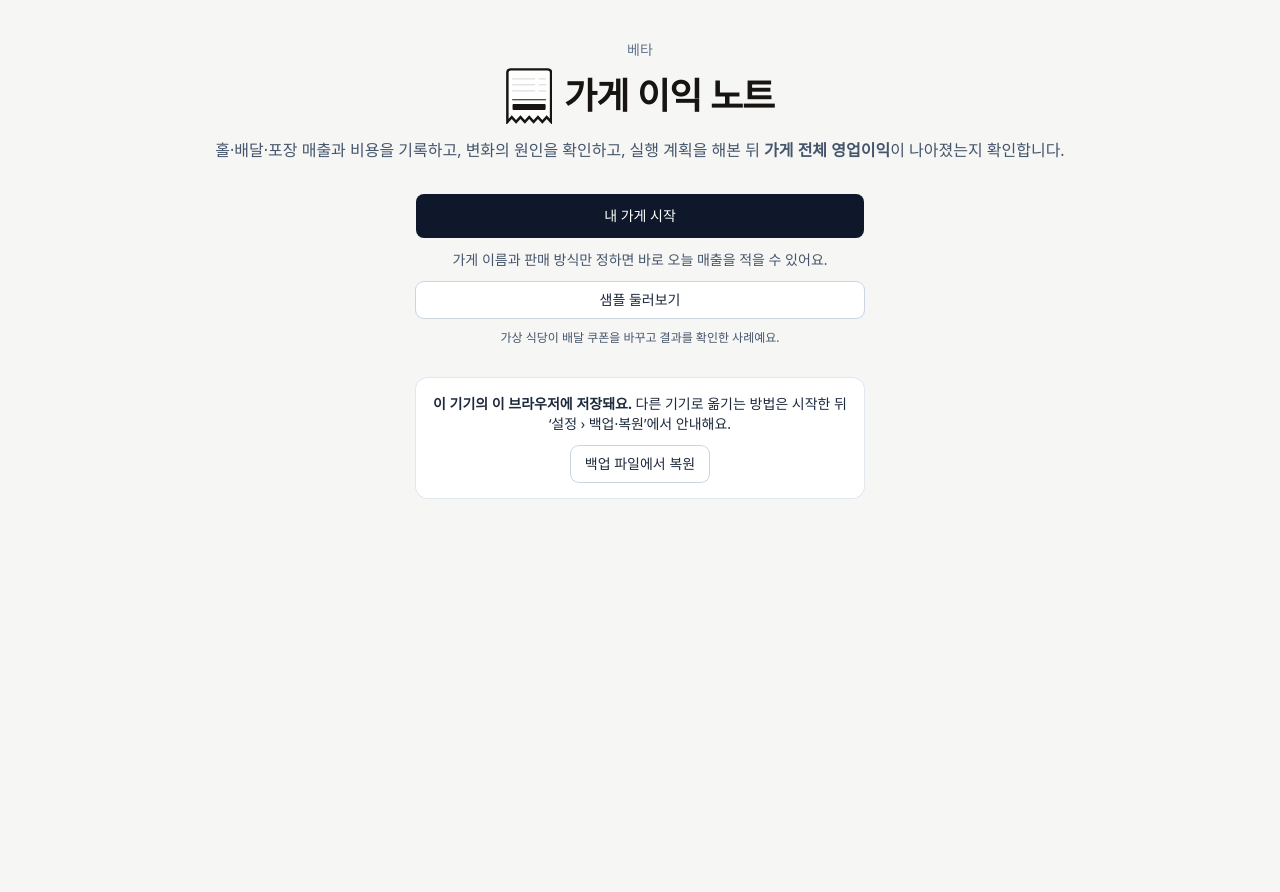
앱 스모크 테스트 › 샘플로 시작해 모든 화면을 렌더링하고, 새로고침 후에도 유지된다
The width and height of the screenshot is (1280, 892).
Later steps or results of the test are not shown.
Expected: the button "내 가게 시작" is shown, [416,194,864,238]
Click the button "샘플 둘러보기": (640, 300) [416,282,864,318]
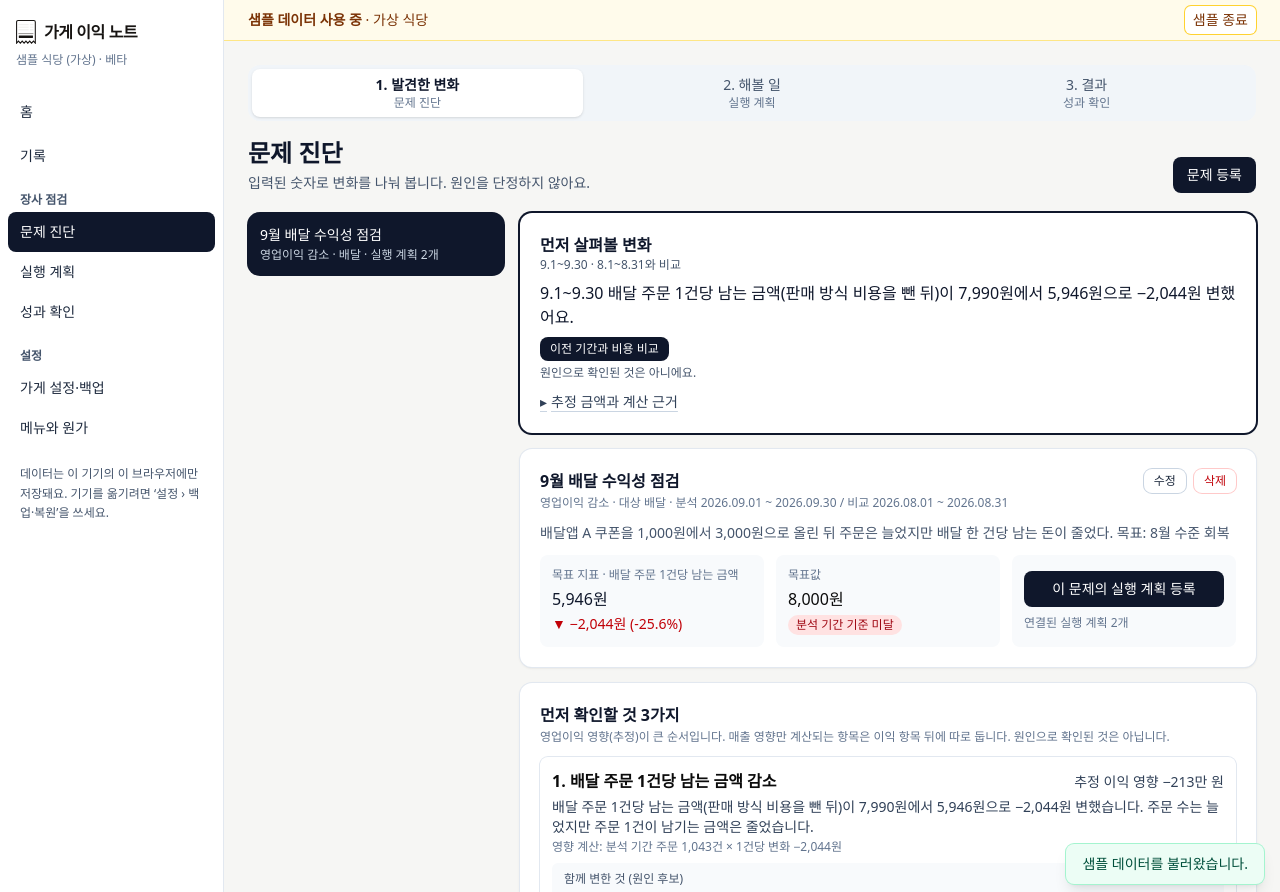
Expected: the text "샘플 데이터 사용 중" is shown, [248,10,362,29]
Expected: the text "먼저 확인할 것 3가지" is shown, [540,704,679,726]
Click the button "이 문제의 실행 계획 등록": (1124, 589) [1024,571,1224,607]
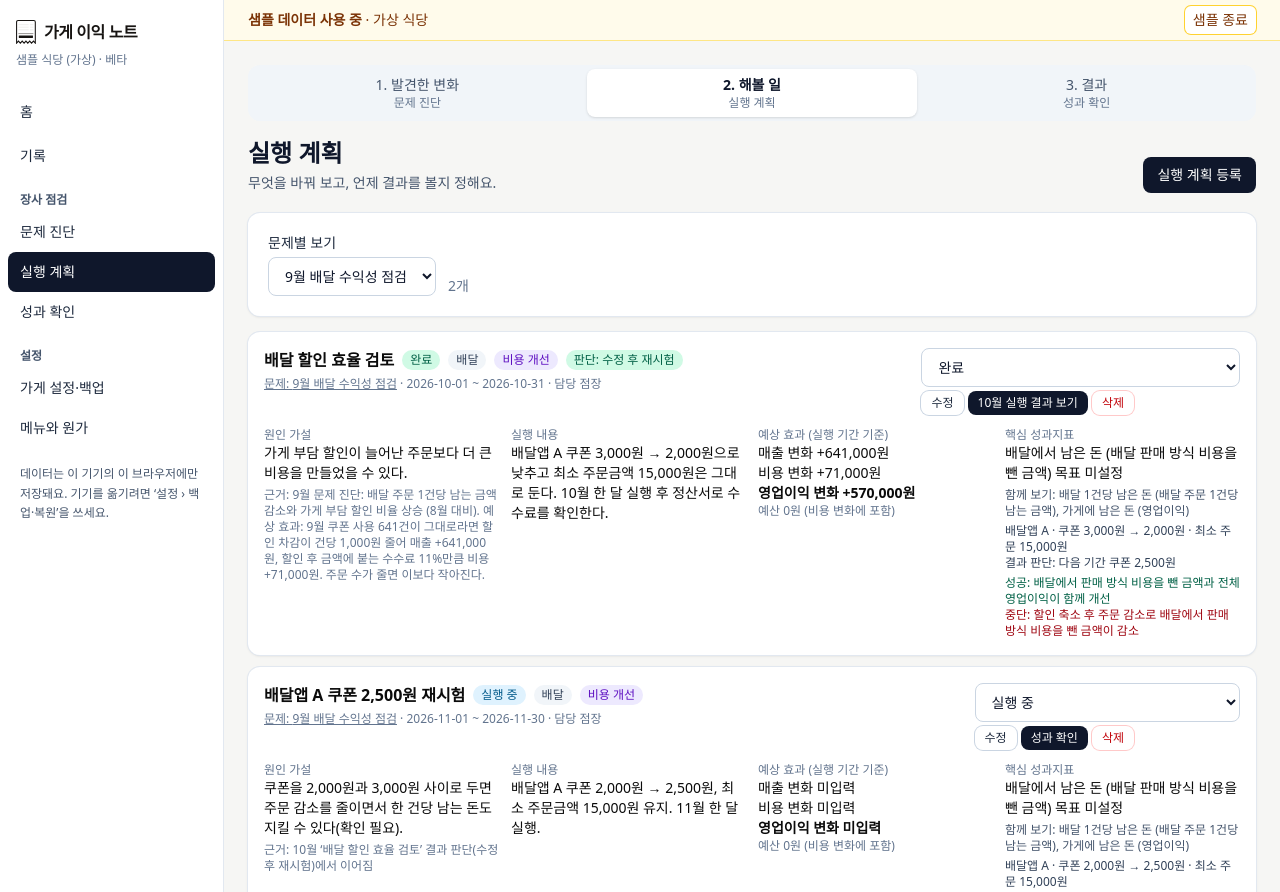
Expected: the text "샘플 데이터 사용 중" is shown, [248,10,362,29]
